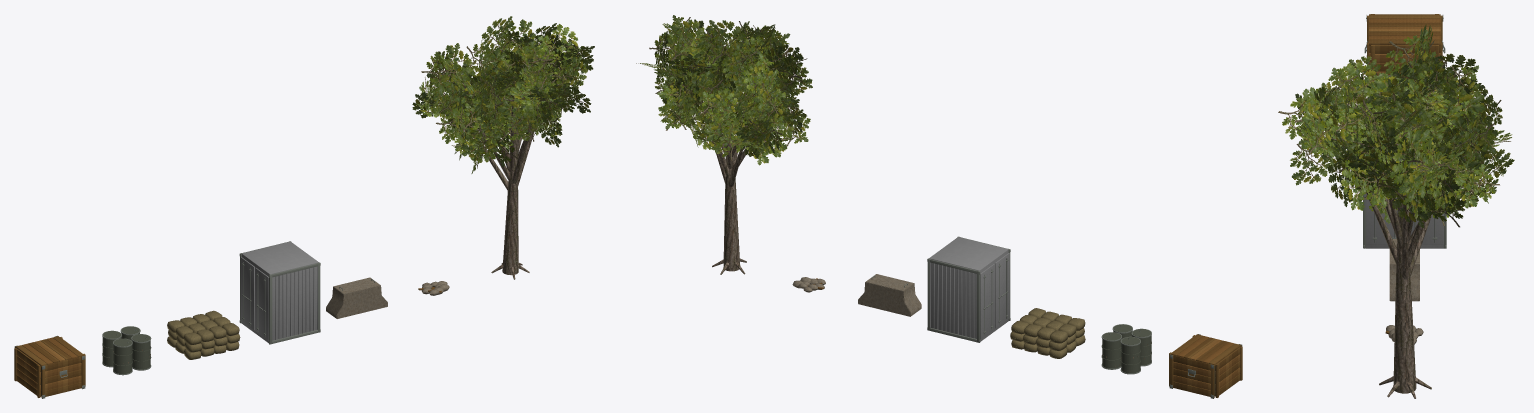
File: props.glb
The picture shows the model from 3 angles, left to right: view 1: azimuth 30°, elevation 25°; view 2: azimuth 150°, elevation 25°; view 3: azimuth 270°, elevation 25°; orthographic projection. The views are drawn at different scales.
Parts seen in each view (by area): view 1: tree, container, crate, sandbags, barrels, barrier; view 2: tree, container, crate, sandbags, barrels, barrier; view 3: tree, crate, container, barrier, rubble.
Boxes of the visible parts, x1,y1,x2,y2 form: tree: (412, 16, 594, 279); container: (239, 241, 320, 344); crate: (14, 335, 85, 398); sandbags: (167, 310, 240, 359); barrels: (102, 326, 151, 375); barrier: (326, 277, 387, 318); tree: (636, 15, 812, 274); container: (927, 236, 1010, 342); crate: (1169, 334, 1242, 398); sandbags: (1010, 308, 1085, 358); barrels: (1101, 324, 1151, 374); barrier: (858, 274, 921, 316); tree: (1278, 24, 1514, 398); crate: (1364, 14, 1445, 80); container: (1363, 174, 1446, 248); barrier: (1389, 239, 1419, 301); rubble: (1385, 325, 1423, 344).
Bounding box in the file's own units: 22.16 × 9.4 × 6.04.
Materials: 12 (8 with a texture image).
